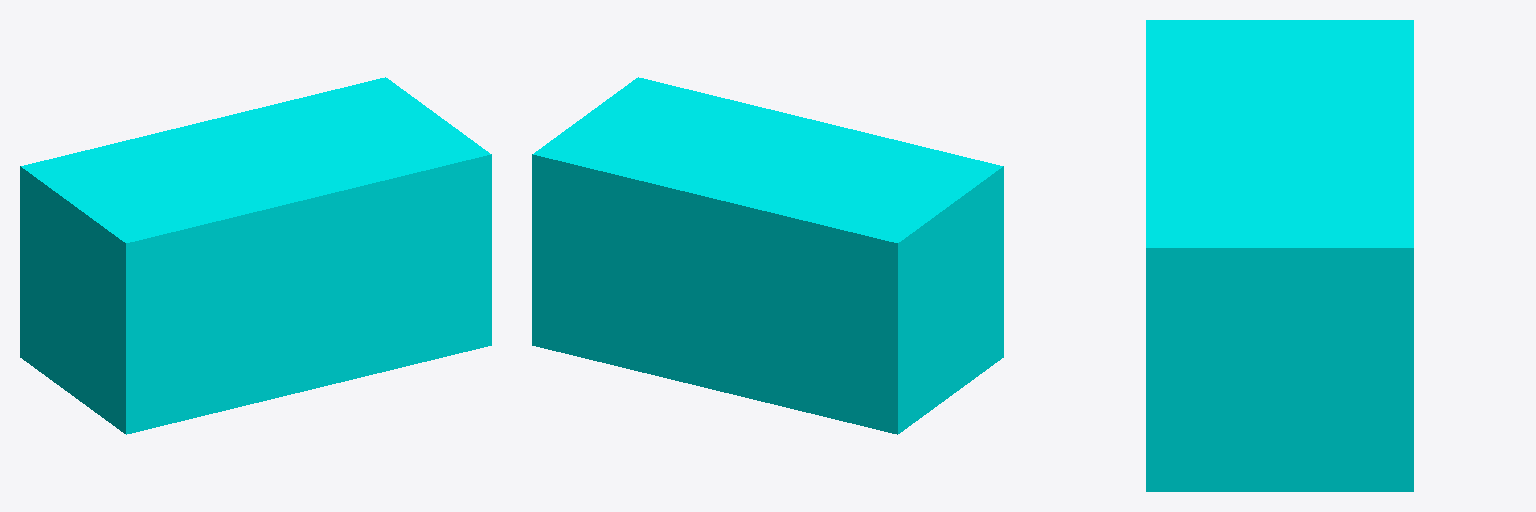
URDF robot description (block_blue):
<?xml version="1.0"?>
<robot name="block_blue">
  <link name="base_link">
    <contact>
      <lateral_friction value="0.7"/>
      <spinning_friction value=".001"/>
    </contact>
    <inertial>
      <origin rpy="0 0 0" xyz="0 0 0"/>
      <mass value="1"/>
      <inertia ixx="1" ixy="0" ixz="0" iyy="1" iyz="0" izz="1"/>
    </inertial>
    <visual>
      <origin rpy="0 0 0" xyz="0.0 0.0 0.0"/>
      <geometry>
        <box size="0.1 0.05 0.05"/>
      </geometry>
      <material name="cyan"> <!-- #virtualkss origin: blue -->
        <color rgba="0 1 1 1"/> <!-- #virtualkss origin: 0 0 1 1 -->
      </material>
    </visual>
    <collision>
      <origin rpy="0 0 0" xyz="0.0 0.0 0.0"/>
      <geometry>
        <box size="0.1 0.05 0.05"/>
      </geometry>
    </collision>
  </link>
</robot>

--- Facts derived from the render (not from the file) ---
3 views of the same robot in one strip: view 1: azimuth 30°, elevation 25°; view 2: azimuth 150°, elevation 25°; view 3: azimuth 270°, elevation 25° (orthographic).
Model block_blue with 1 links and 0 joints (none), rooted at base_link, posed every joint at zero.
Links seen in each view (by area): view 1: base_link; view 2: base_link; view 3: base_link.
Boxes of the visible links, x1,y1,x2,y2 form: base_link: [20, 77, 491, 434]; base_link: [532, 77, 1003, 434]; base_link: [1146, 20, 1413, 491].
Bounding box of the posed robot: 0.1 × 0.05 × 0.05 m (x, y, z).
Geometry: primitives only (box / cylinder / sphere), no mesh files.
